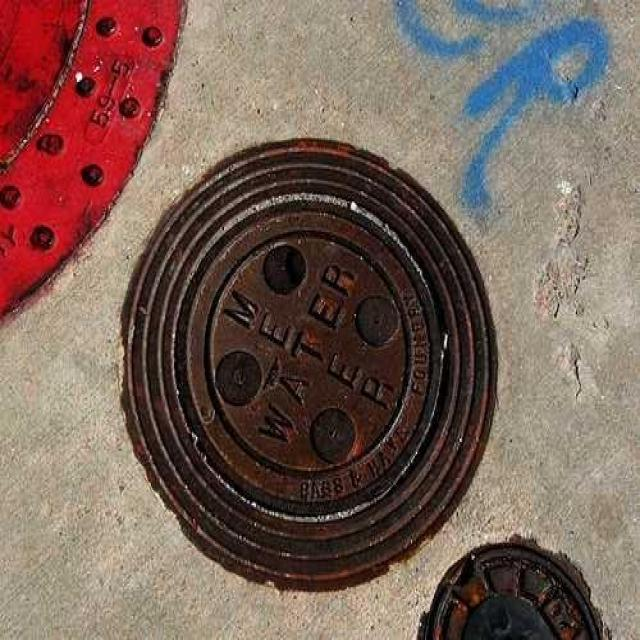manhole: (125, 143, 495, 587), (0, 0, 184, 317), (420, 540, 605, 640)
